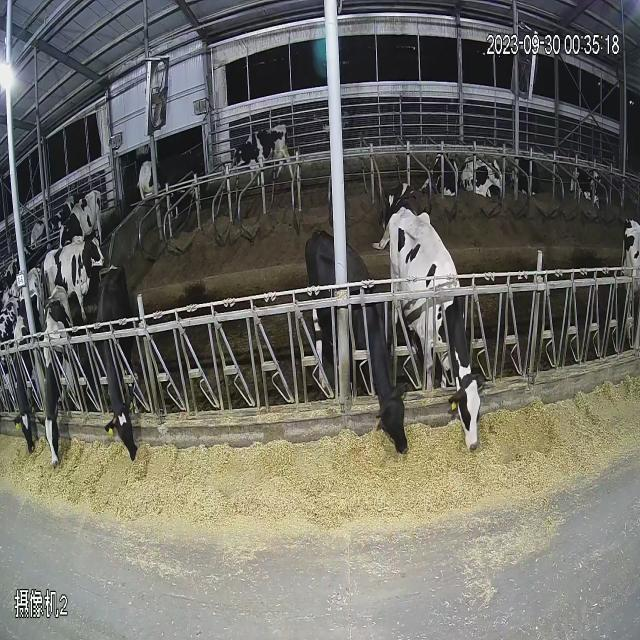feeding: (300, 202, 510, 492), (0, 273, 170, 478)
lying down: (374, 115, 610, 253)
